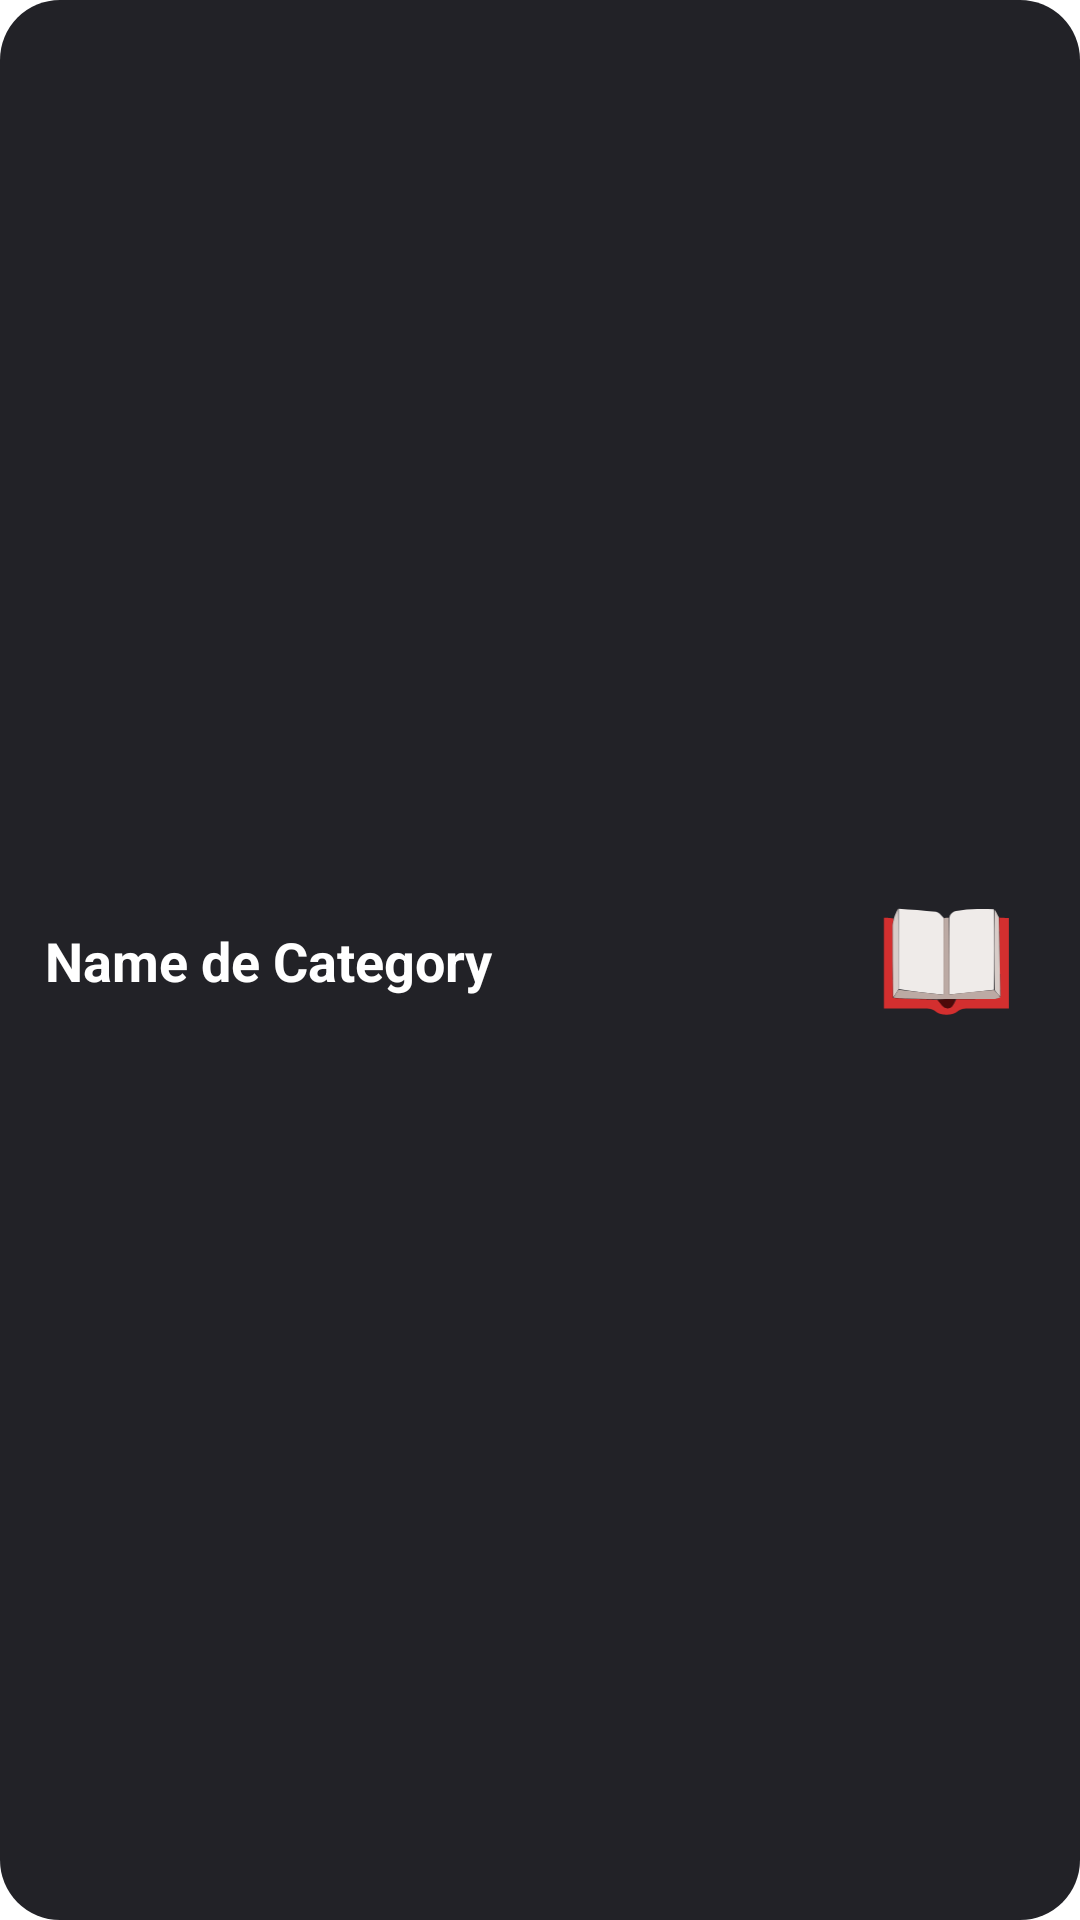

Where to tap for icons on this 1080*1920 app screen, as [x,y]:
open book adobe express: [946,961]
